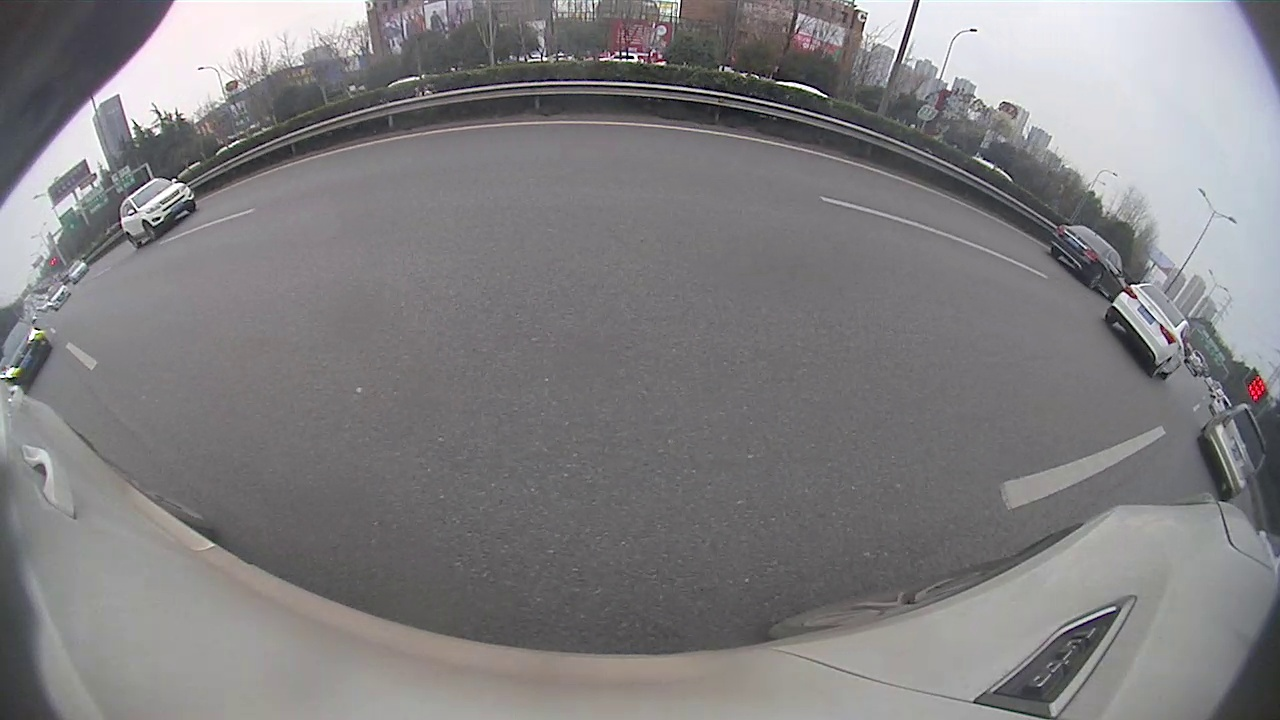car: (1100, 282, 1191, 380), (1196, 402, 1273, 503), (117, 177, 195, 249), (1051, 223, 1122, 289), (4, 321, 53, 390)
front: (142, 219, 160, 242)
rear: (1147, 358, 1171, 379), (1086, 270, 1104, 290)
